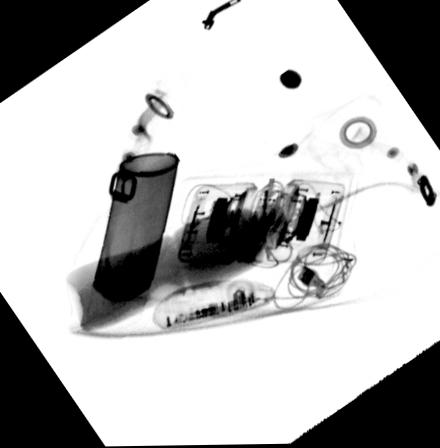Sprayer: (82, 149, 180, 333)
